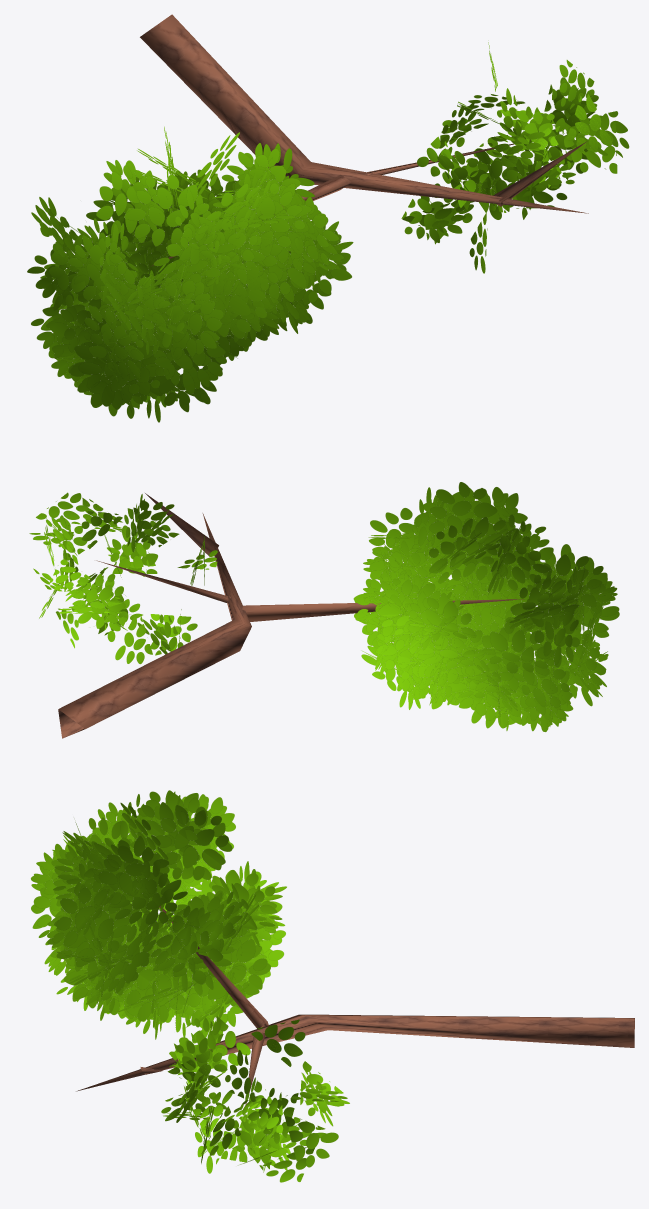
Rendered from NormalTree_4.glb.
3 views of the same model, one above another, from view 1: azimuth 30°, elevation 25°; view 2: azimuth 150°, elevation 25°; view 3: azimuth 270°, elevation 25° (orthographic). The views are drawn at different scales.
Visible parts, largest first — view 1: NormalTree_4; view 2: NormalTree_4; view 3: NormalTree_4.
Part boxes in pixels (box(x1,y1,x2,y2)): NormalTree_4: box(27, 14, 629, 422); NormalTree_4: box(29, 482, 619, 738); NormalTree_4: box(31, 790, 634, 1182).
Bounding box in the file's own units: 5.41 × 2.25 × 4.77.
Materials: 2 (2 with a texture image).
